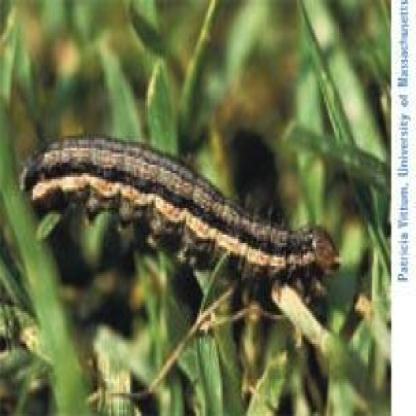armyworm: (18, 132, 342, 315)
